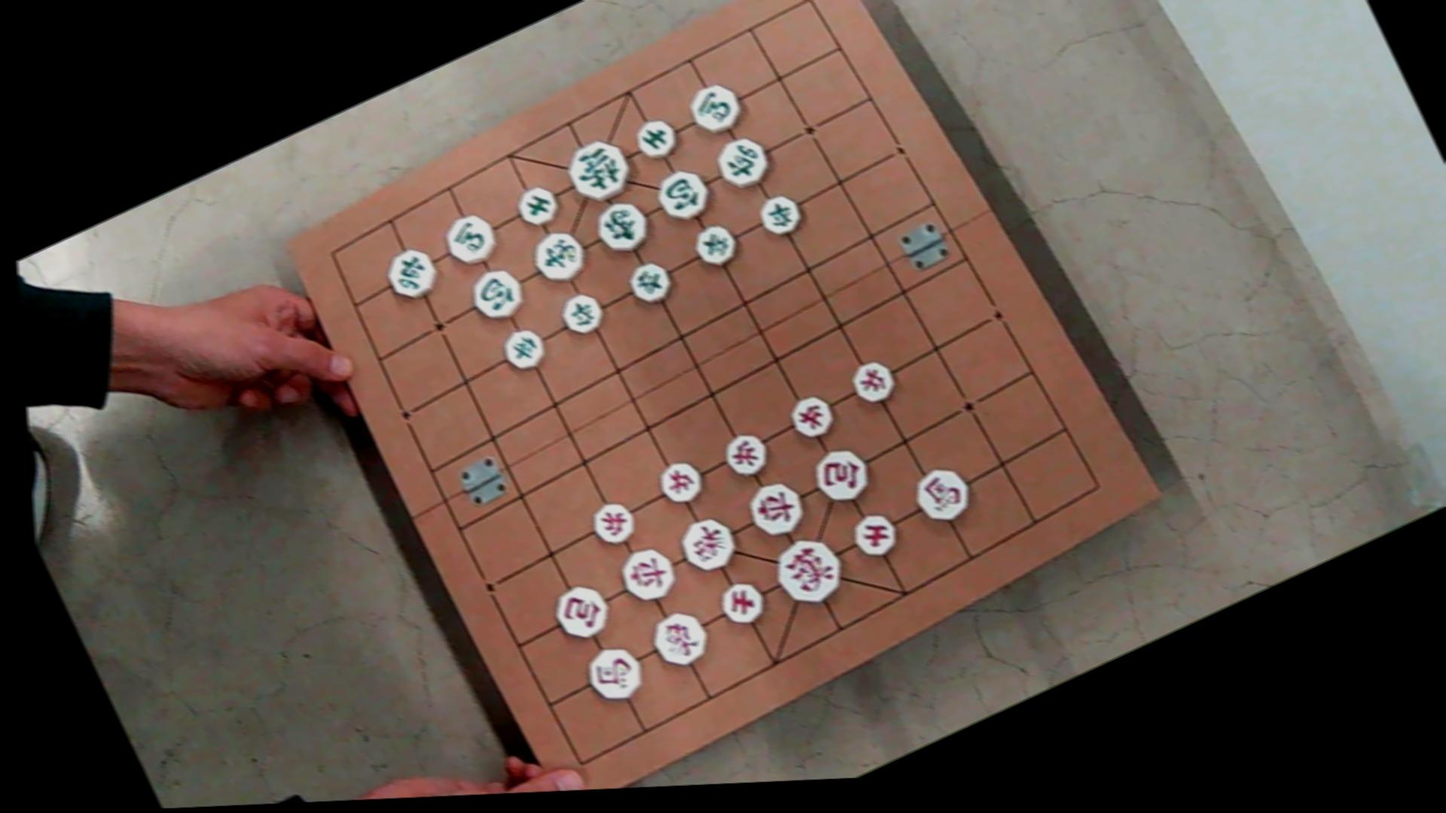cha_green: (709, 129, 777, 195), (379, 242, 444, 304)
cha_red: (741, 473, 811, 542), (612, 540, 683, 607)
jol_green: (623, 256, 677, 308), (689, 219, 743, 271), (754, 188, 807, 239), (496, 324, 550, 374), (555, 288, 607, 338)
jol_red: (584, 495, 641, 550), (651, 455, 708, 509), (718, 427, 773, 482), (783, 389, 839, 443), (845, 355, 901, 408)
ma_green: (682, 76, 749, 140), (437, 206, 504, 270)
ma_red: (579, 638, 651, 707), (907, 459, 978, 528)
po_green: (462, 262, 529, 327), (649, 163, 717, 227)
po_red: (807, 440, 878, 509), (547, 576, 617, 644)
sa_green: (629, 112, 683, 164), (510, 180, 564, 231)
sa_red: (847, 507, 902, 562), (714, 575, 770, 629)
sang_green: (588, 193, 657, 260), (525, 224, 592, 288)
sang_red: (645, 604, 716, 673), (673, 510, 743, 577)
wang_green: (558, 130, 640, 208)
wang_red: (765, 528, 851, 612)
